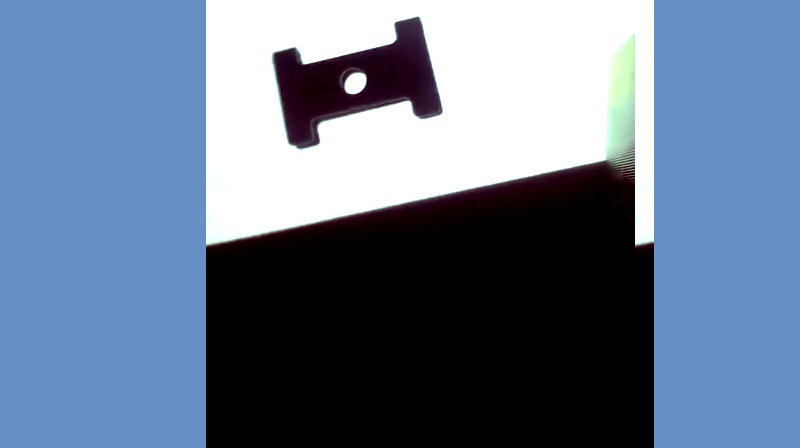O002: (269, 11, 446, 150)
